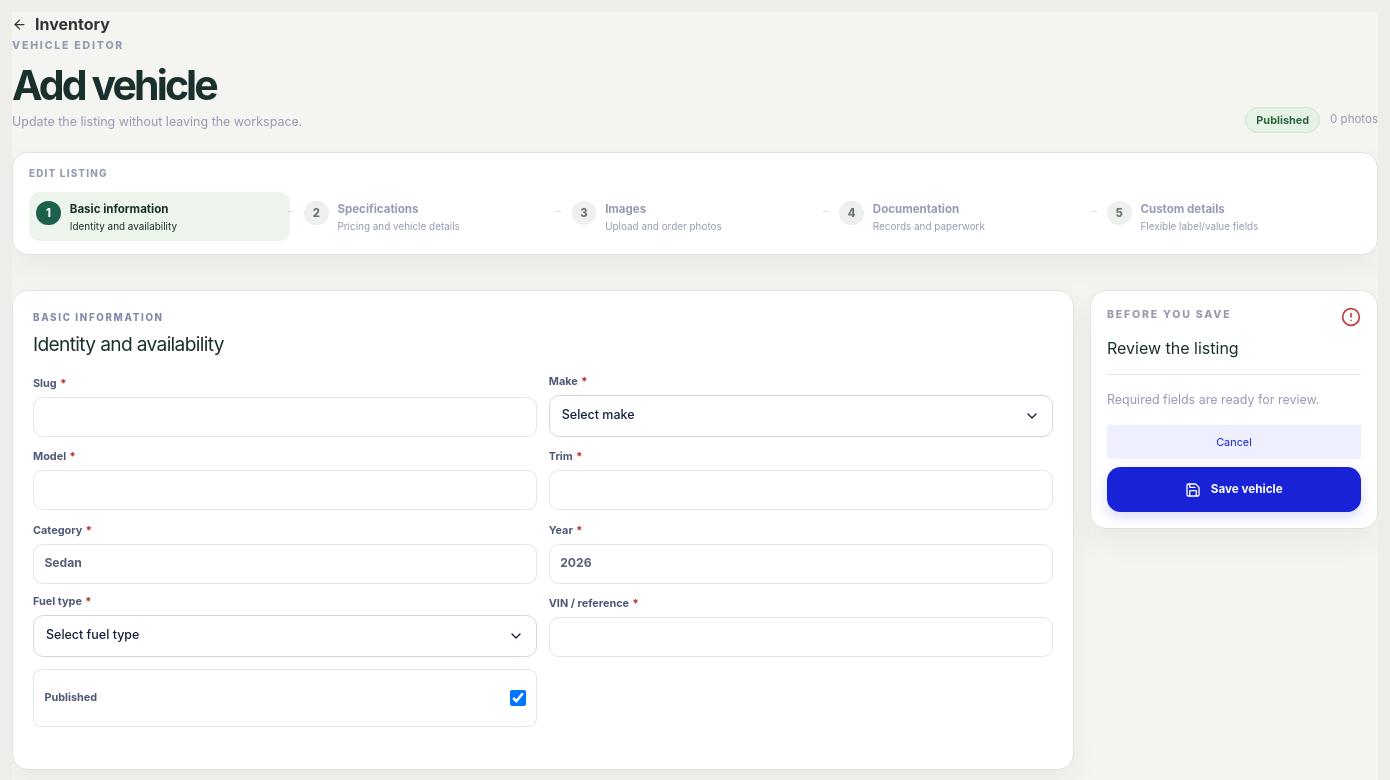
Test: AdminInventoryPanel option management › shows and edits the documentation section in the vehicle editor
Step 1. Click the button "4 Documentation Records and paperwork" → (916,209), box x1=832 y1=192 x2=1093 y2=241
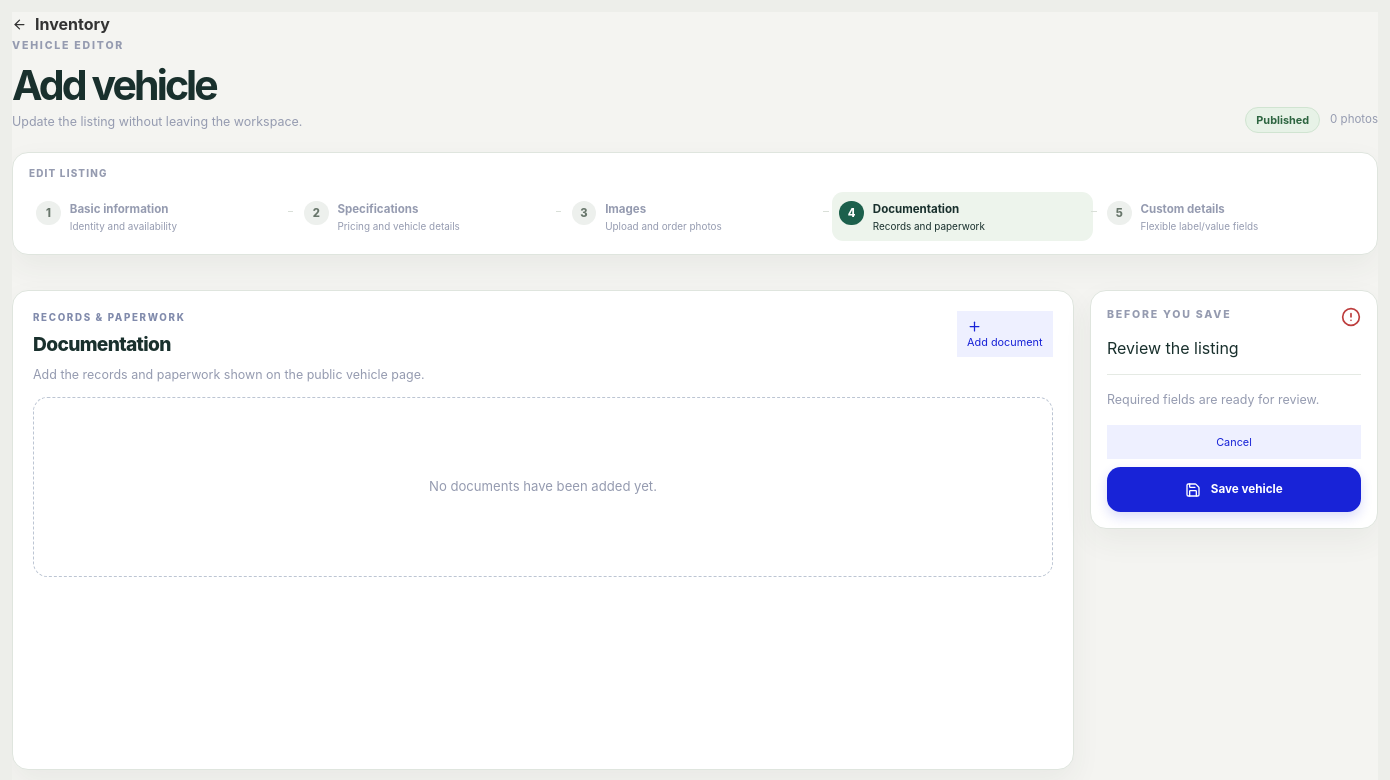
Now the heading "Documentation" is shown, box x1=33 y1=332 x2=171 y2=356
Now the text "No documents have been added yet." is shown, box x1=33 y1=397 x2=1053 y2=577
Step 2. Click the button "Add document" → (1005,334), box x1=957 y1=311 x2=1053 y2=357
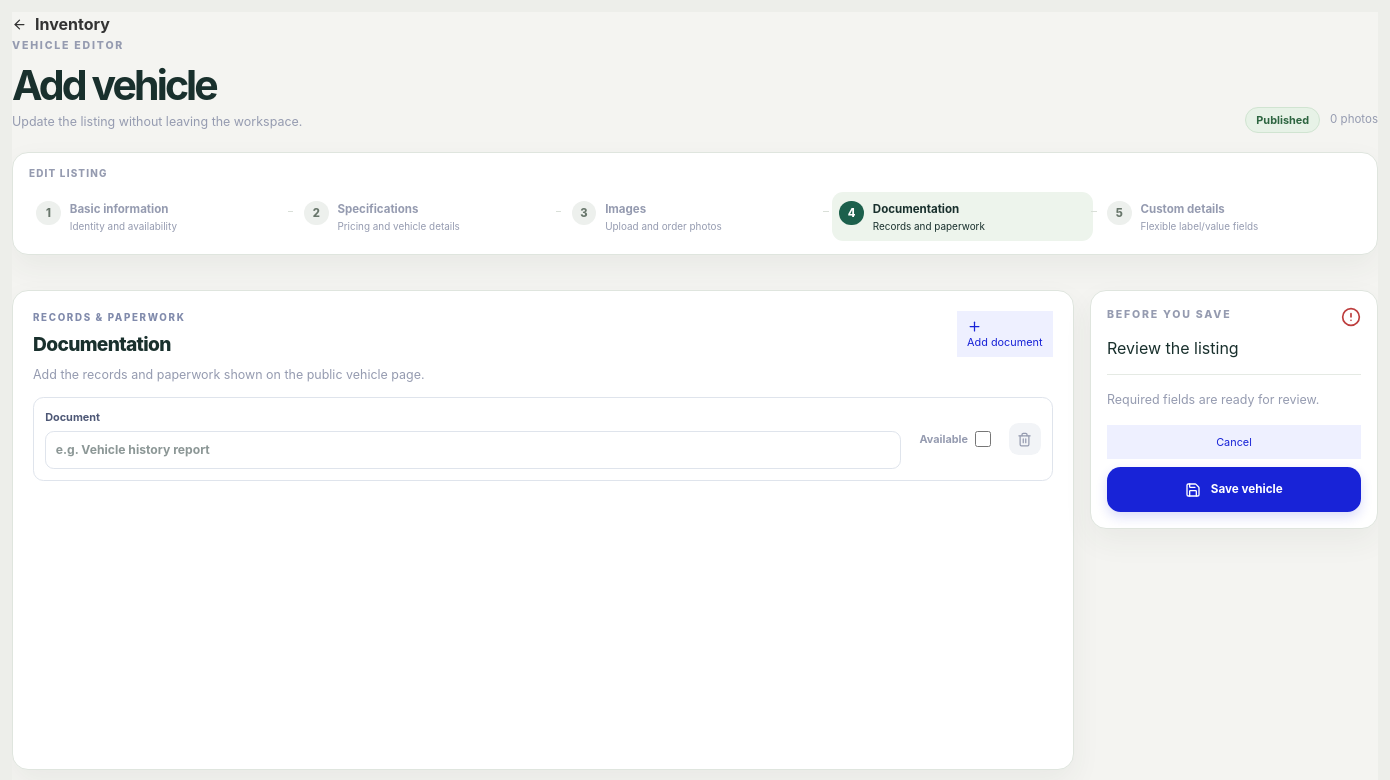
Step 3. Type "Vehicle history report" into the field labelled "Document" → (473,450), box x1=45 y1=431 x2=901 y2=469
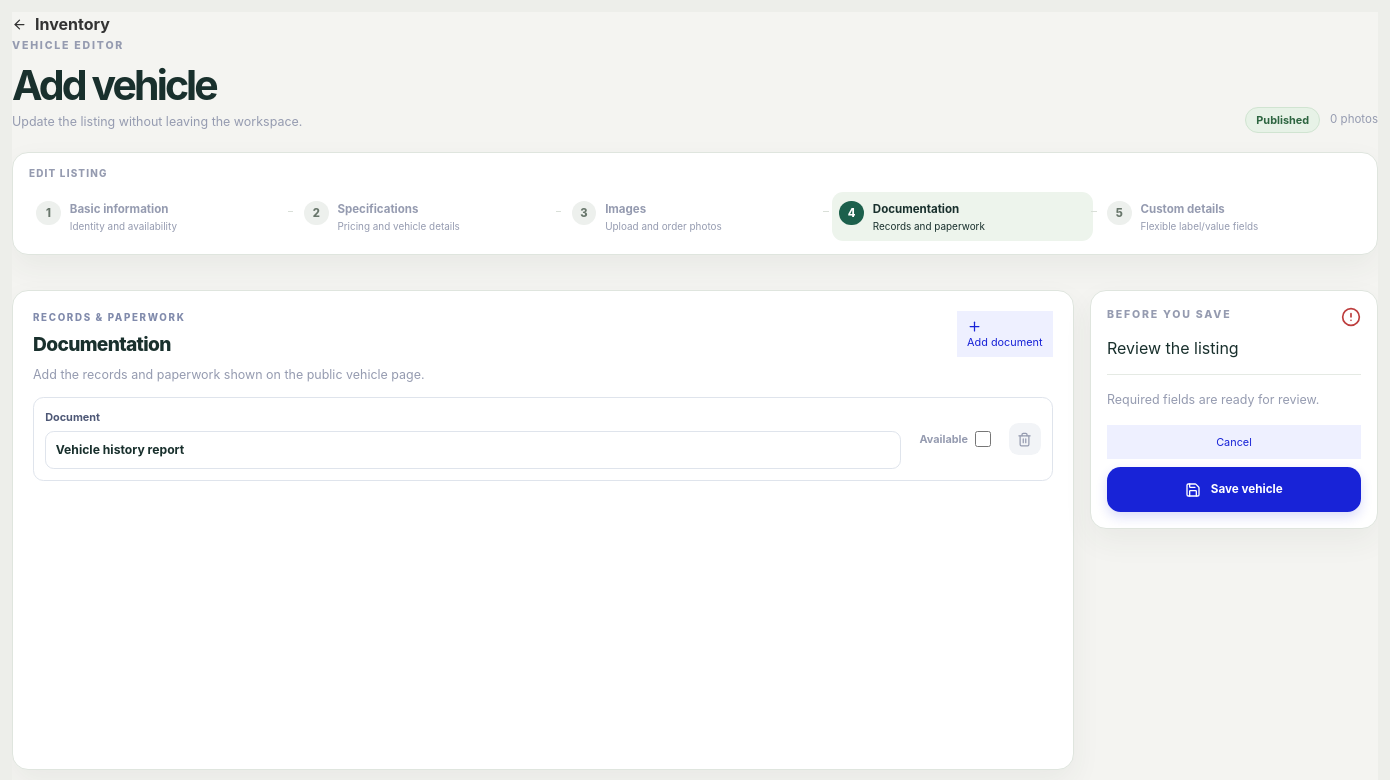
Now the checkbox labelled "Available" is not checked
Step 4. Click the checkbox labelled "Available" → (983,439), box x1=975 y1=431 x2=991 y2=447
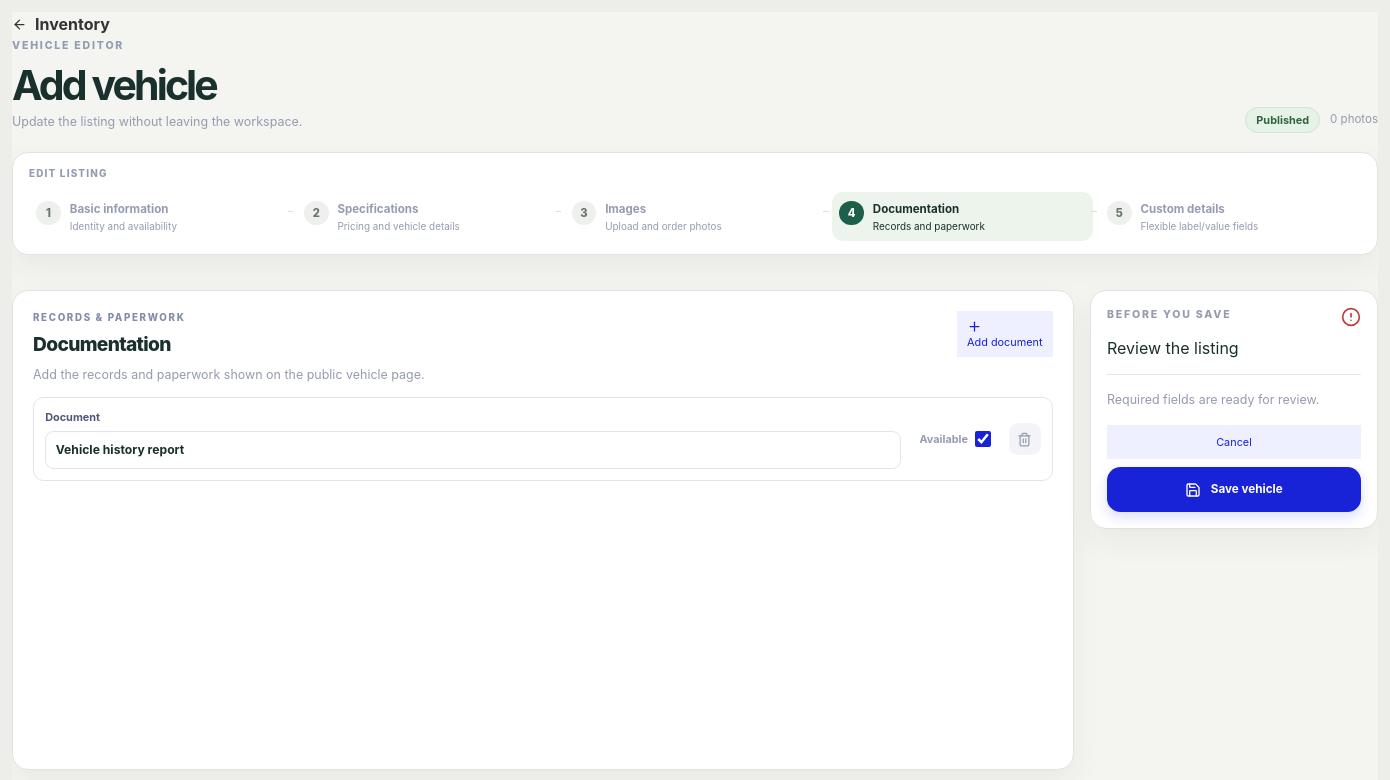
Now the checkbox labelled "Available" is checked, box x1=975 y1=431 x2=991 y2=447
Step 5. Click the button named "delete document vehicle history report" → (1025,439), box x1=1009 y1=423 x2=1041 y2=455
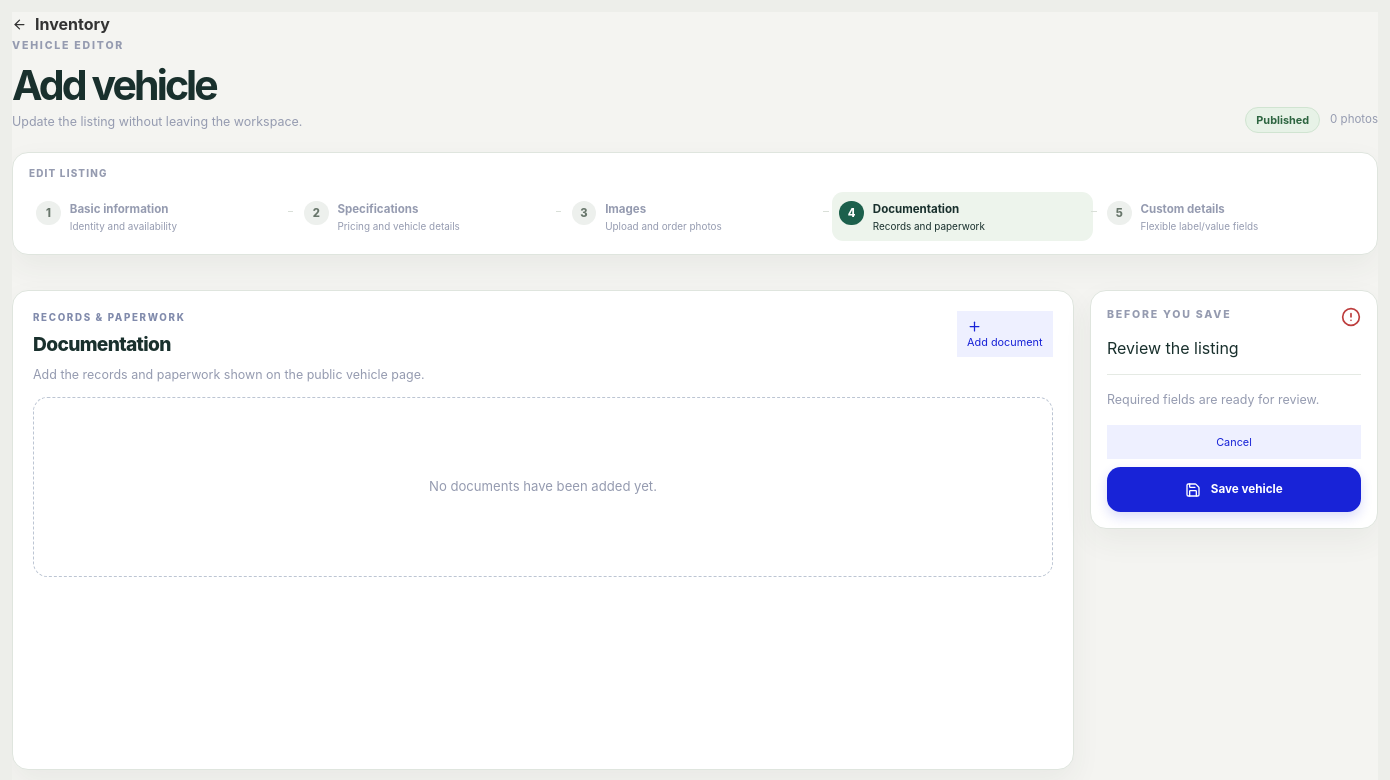
Now the text "No documents have been added yet." is shown, box x1=33 y1=397 x2=1053 y2=577
